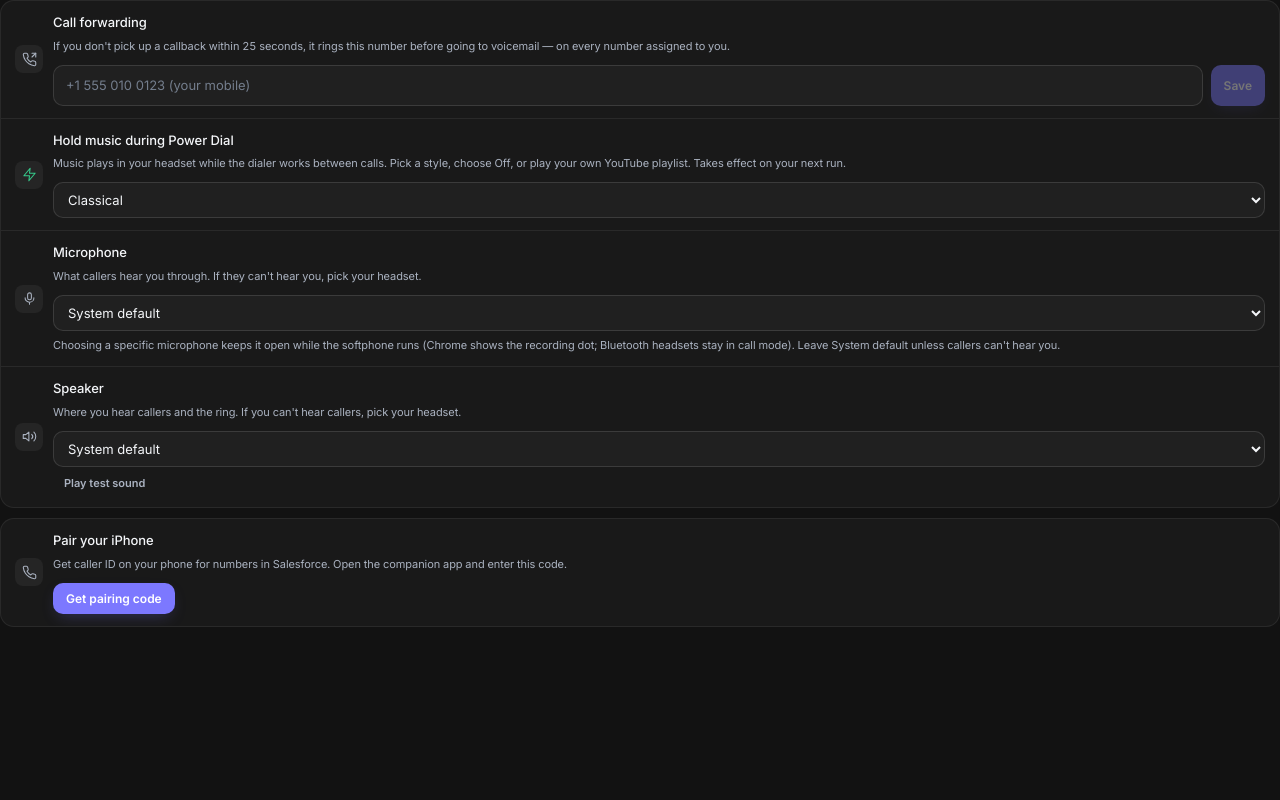
Test: SettingsPanel picker — PATCH shapes, toasts, YouTube link errors › picking YouTube with nothing saved shows the link box without PATCHing
Step 1. Select "YouTube" in the dropdown named "Hold music" → (659, 200), box [53,182,1265,218]
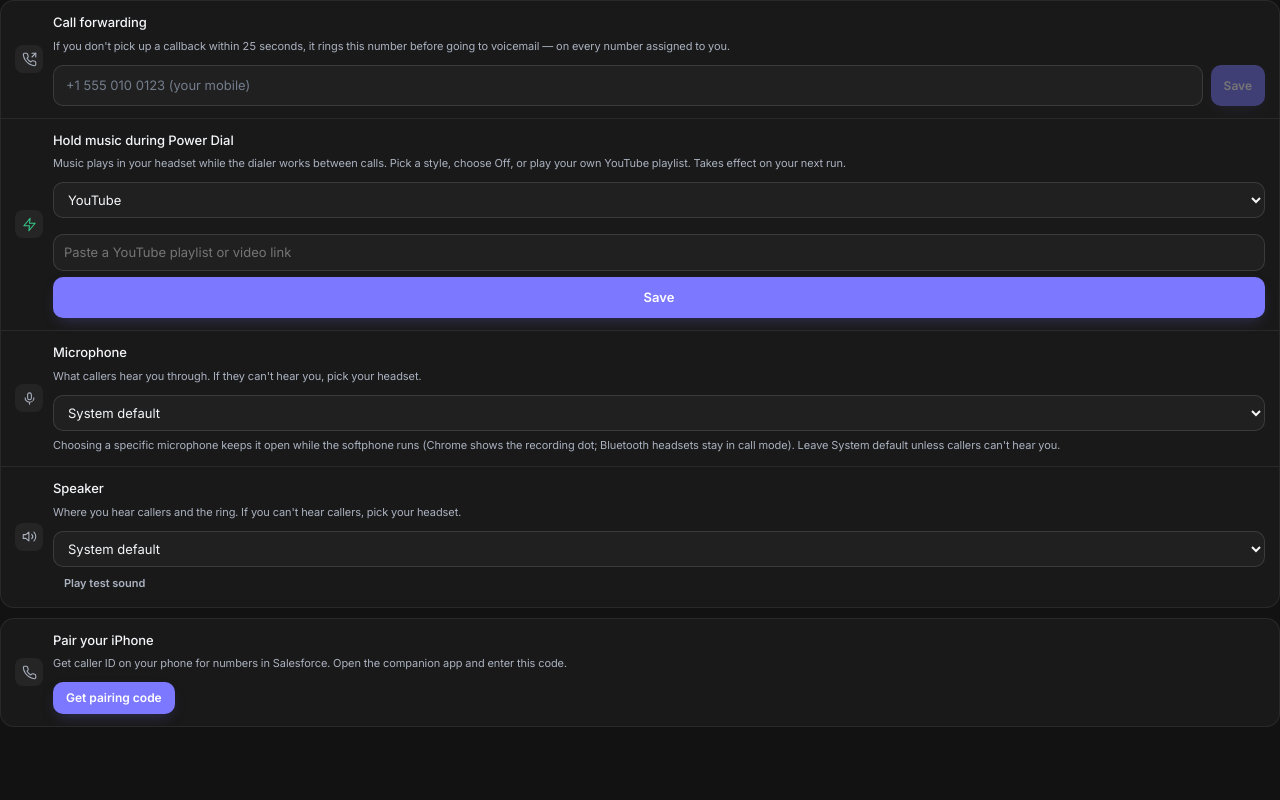
Expected: the field with placeholder "Paste a YouTube playlist or video link" is shown, [53,234,1265,271]
